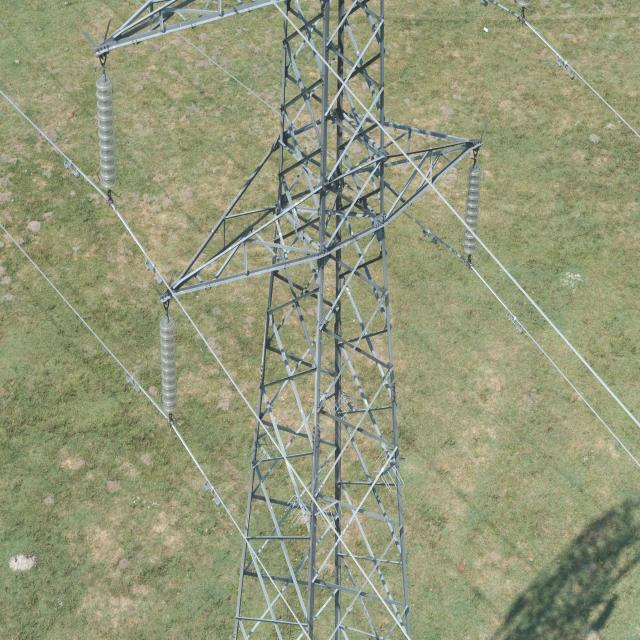voltage_line: (110, 7, 472, 640)
